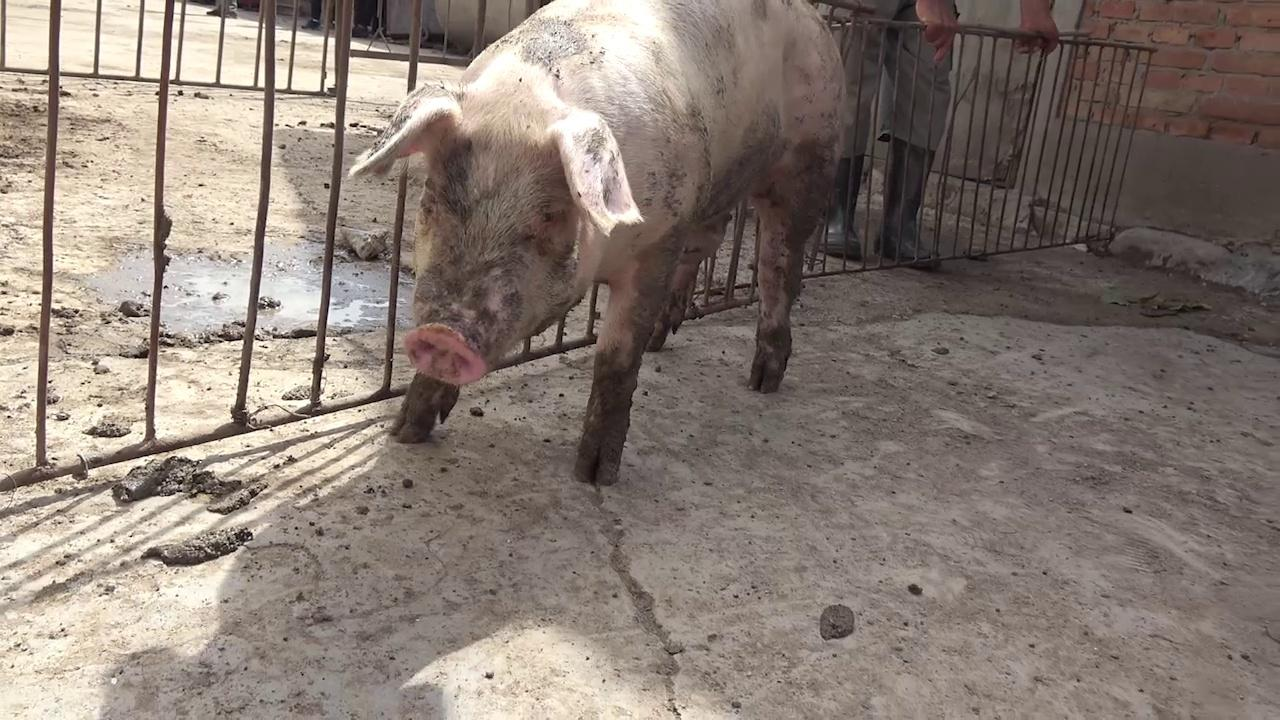Face: (340, 73, 657, 394)
